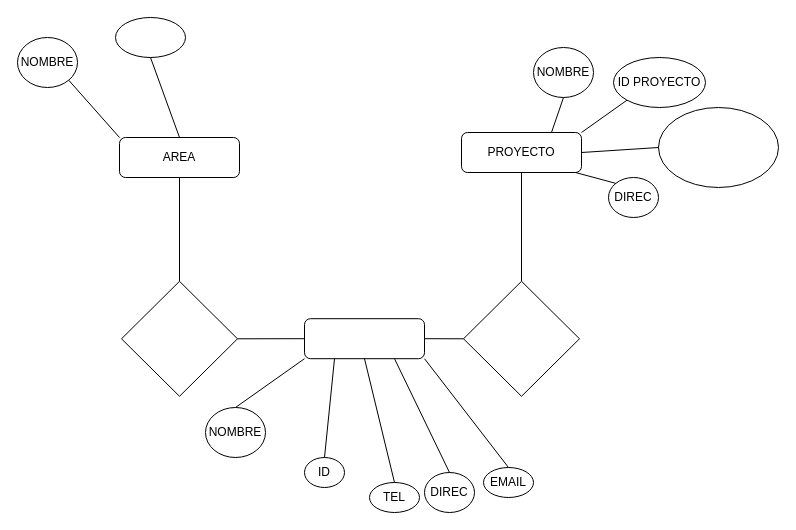
Some shapes in this 796 by 530 pixel diagram are drawn without their labels. The centre of each missing label's shape, as x and y in pixels:
"ASIGNAR" goes at point 521,338.
"DESCRIPCION" goes at point 718,147.
"EMPLEADO" goes at point 364,338.
"ID AREA" goes at point 150,37.
"TRABAJA" goes at point 179,338.
